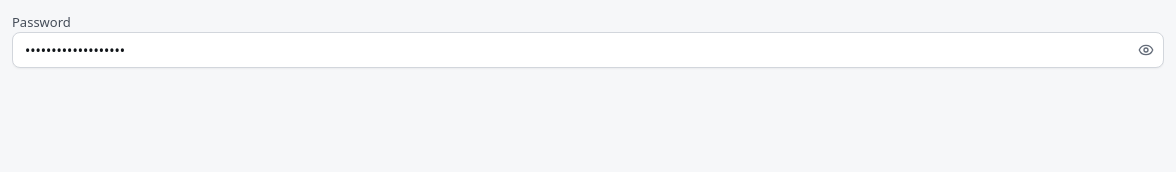
Test: the eye button shows and hides a password and is never taken for its label
What coordinates should you click on to do the following:
click the button named "Show password"
I would click on:
 (1146, 50)
Its box is left=1128, top=32, right=1164, bottom=68.
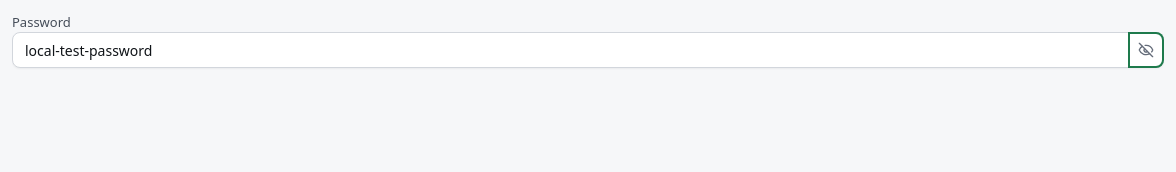
expect the field labelled "Password" holds "local-test-password": met, box left=12, top=32, right=1164, bottom=68
expect the field labelled "Password" shows its text: met, box left=12, top=32, right=1164, bottom=68
What coordinates should you click on to do the following:
click the button named "Hide password"
I would click on:
 (1146, 50)
Its box is left=1128, top=32, right=1164, bottom=68.
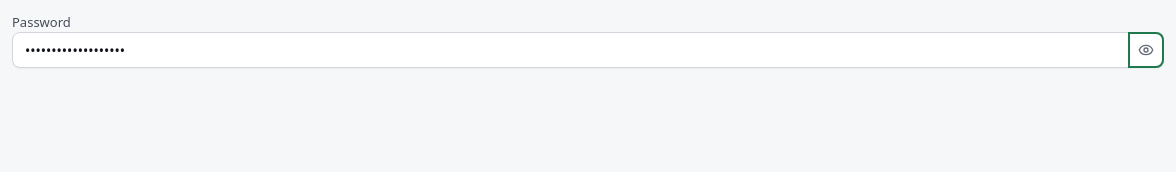
expect the password field labelled "Password" hides its text: met, box left=12, top=32, right=1164, bottom=68
